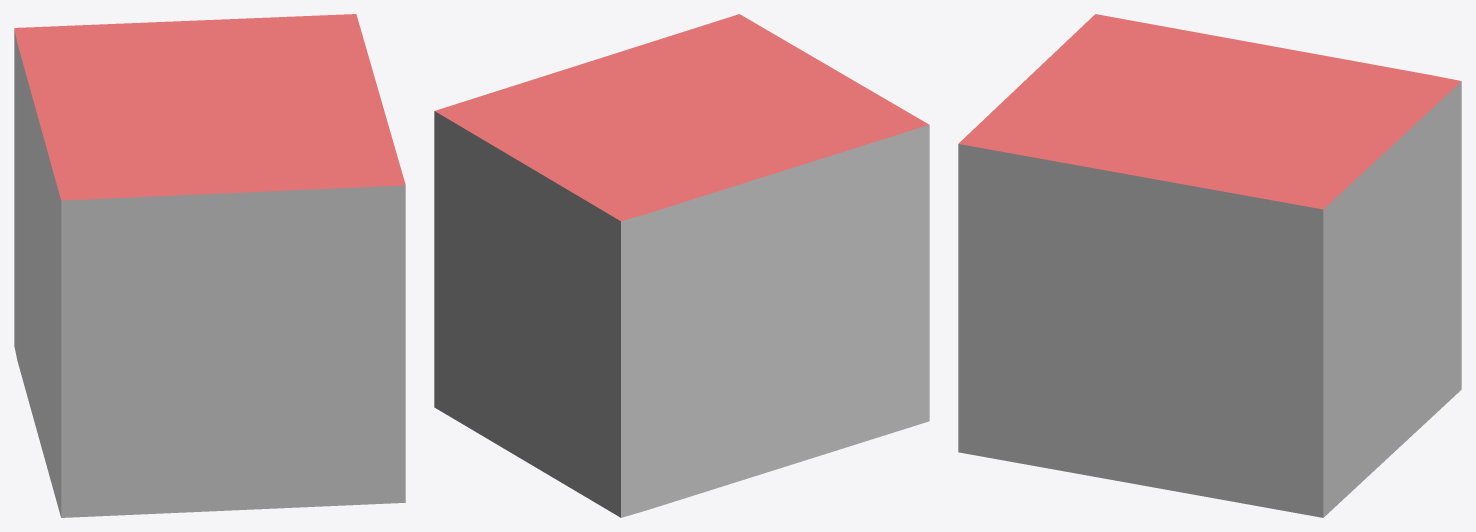
File: DEBY_LOD2_4908041.gltf
The picture shows the model from 3 angles, left to right: view 1: azimuth 30°, elevation 25°; view 2: azimuth 150°, elevation 25°; view 3: azimuth 270°, elevation 25°; orthographic projection. The views are drawn at different scales.
Parts seen in each view (by area): view 1: Z_UP; view 2: Z_UP; view 3: Z_UP.
Boxes of the visible parts, x1,y1,x2,y2 form: Z_UP: (14,14,405,517); Z_UP: (434,14,929,517); Z_UP: (958,14,1461,517).
Size of the model in its own units: 4.08 by 3 by 4.44.
